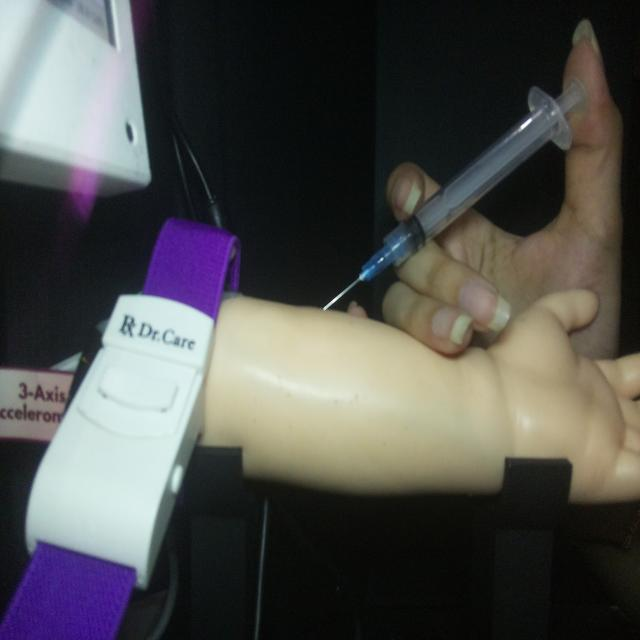28 degrees: (321, 73, 588, 313)
